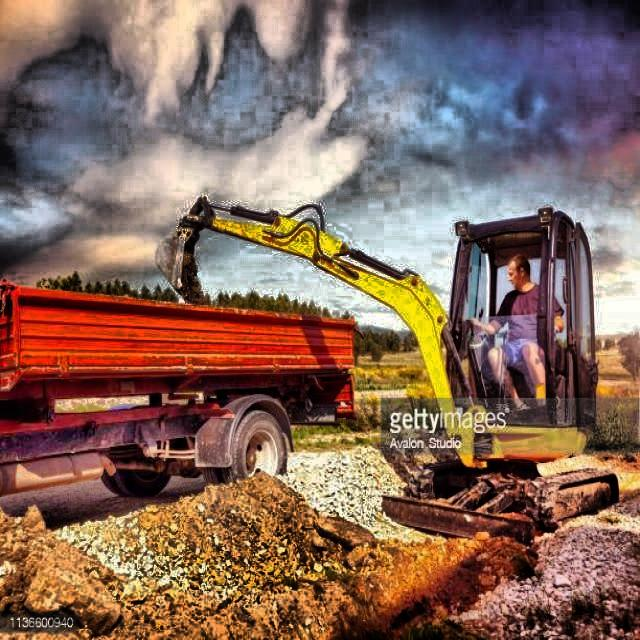excavator: (154, 192, 622, 550)
